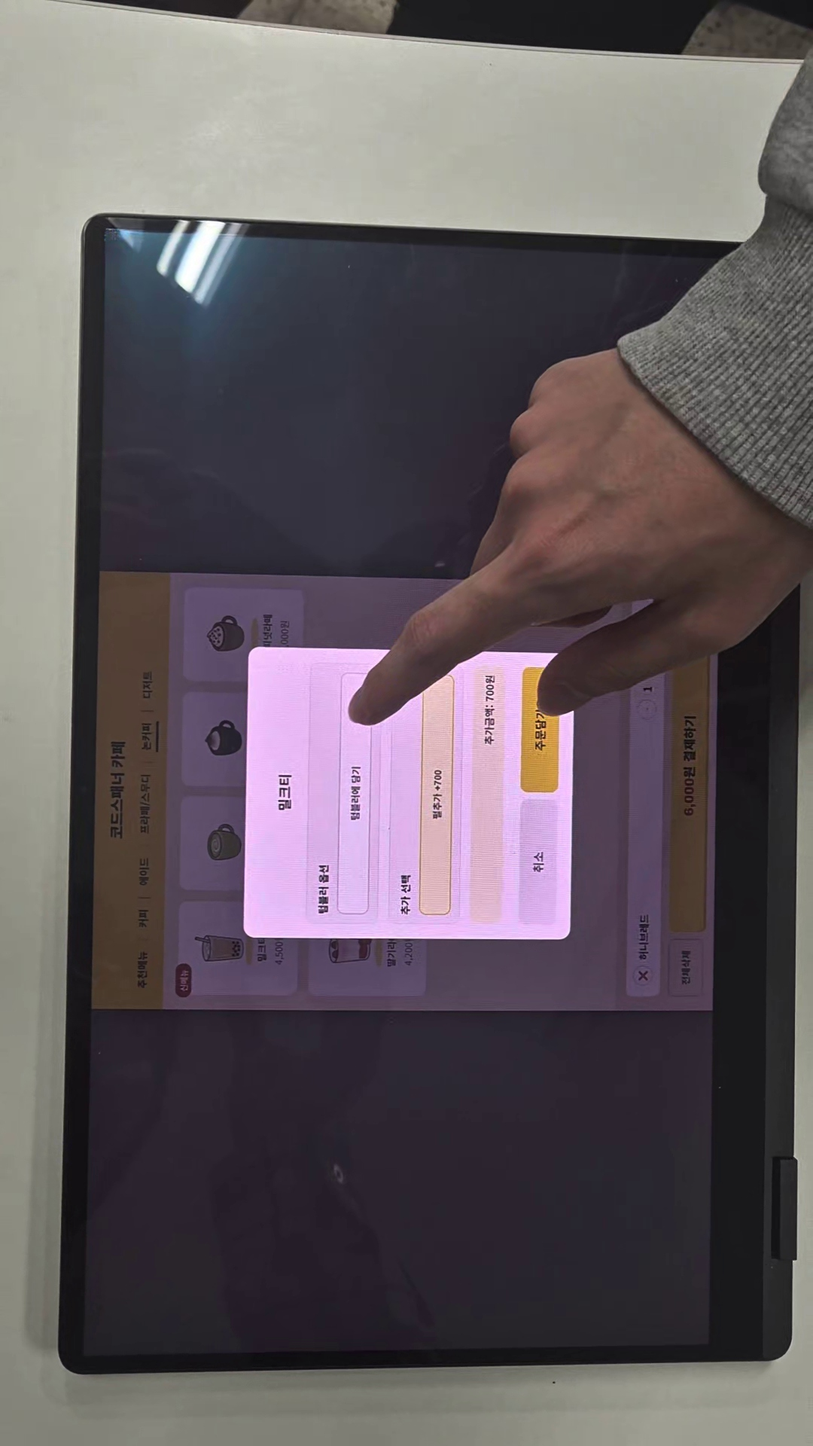action_button: (523, 667, 558, 792), (519, 801, 554, 925)
option_button: (422, 670, 453, 913), (341, 674, 368, 915)
popup_modal: (248, 648, 571, 938)
